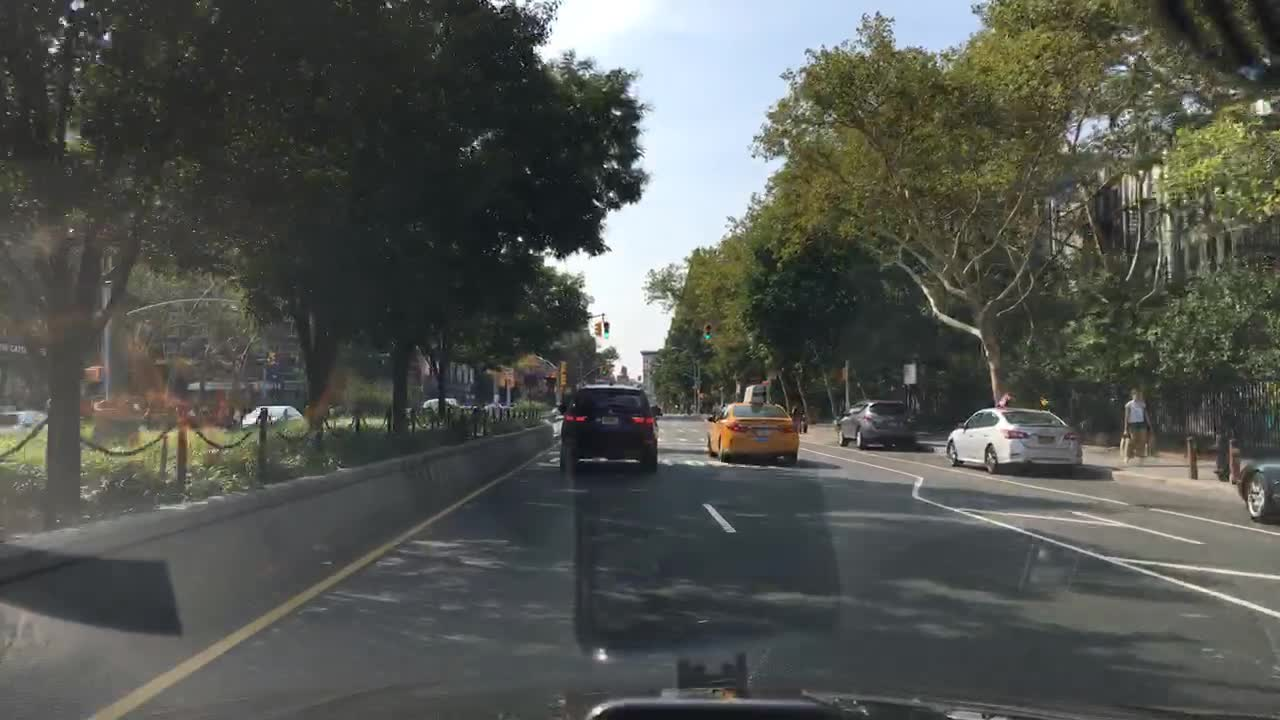car: (945, 390, 1083, 475), (558, 383, 662, 474), (707, 383, 800, 465), (836, 398, 915, 449), (1237, 456, 1279, 526), (241, 404, 302, 426), (0, 408, 49, 435), (423, 395, 456, 412)
person: (1121, 387, 1155, 465), (790, 403, 807, 433)
traffic light: (84, 365, 102, 378), (703, 321, 712, 344), (268, 348, 275, 366), (594, 321, 602, 336), (559, 361, 569, 373), (559, 373, 568, 386), (603, 321, 609, 339), (601, 364, 607, 376)
traffic sign: (903, 362, 916, 383), (501, 367, 514, 379)
